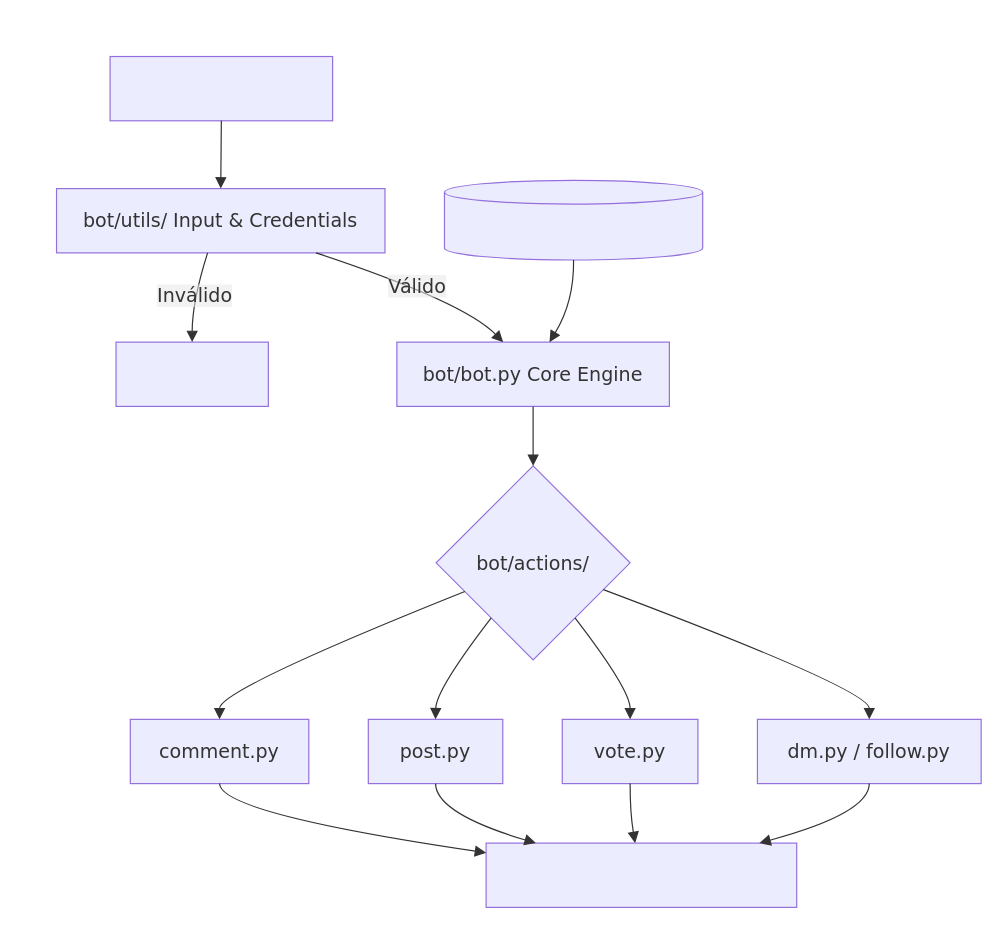
Image size: 1002x928. Some labels were removed from this diagram. The shapes that lost their labels are listed below. From the top down, each one's box as (x1, y1, x2, y2) in pixels, then its label:
(109, 55, 333, 121): main.py CLI Entry
(443, 179, 703, 260): reddit_bot.db / config.yaml
(115, 341, 268, 406): Error Exit
(485, 842, 797, 907): reporting.py / Ghost Logger
